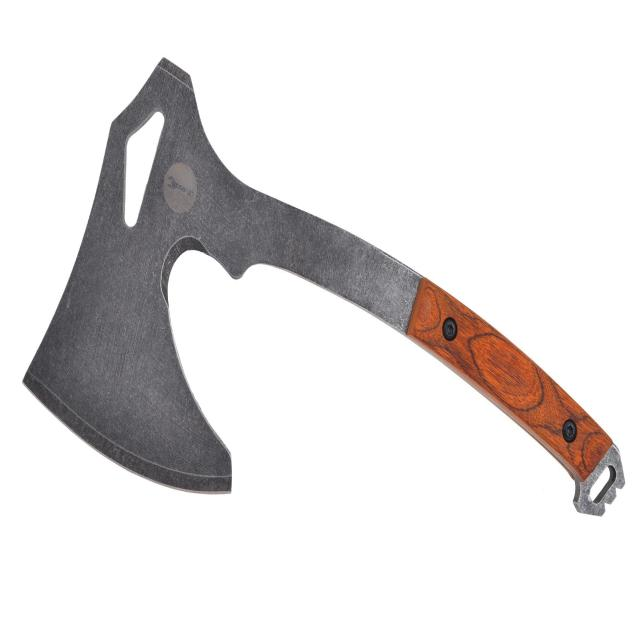Kapak: (47, 52, 597, 548)
